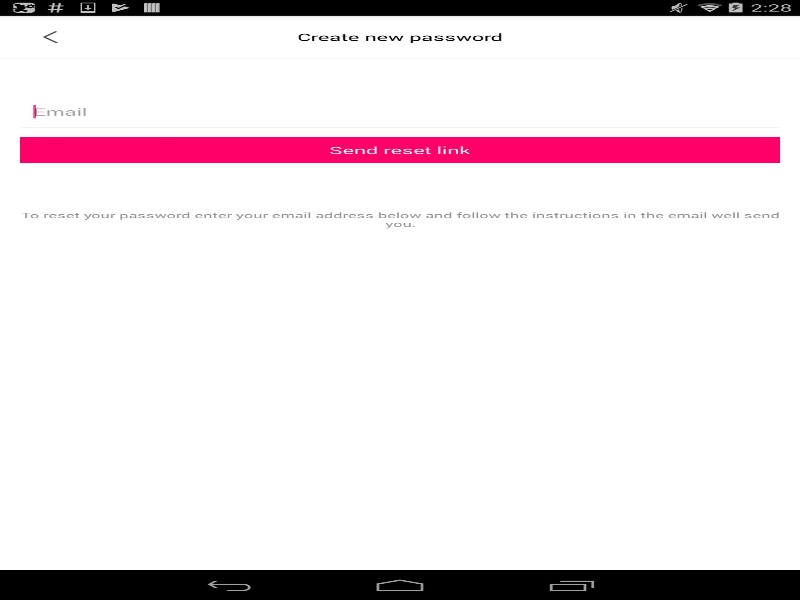Input: (33, 99, 766, 124)
